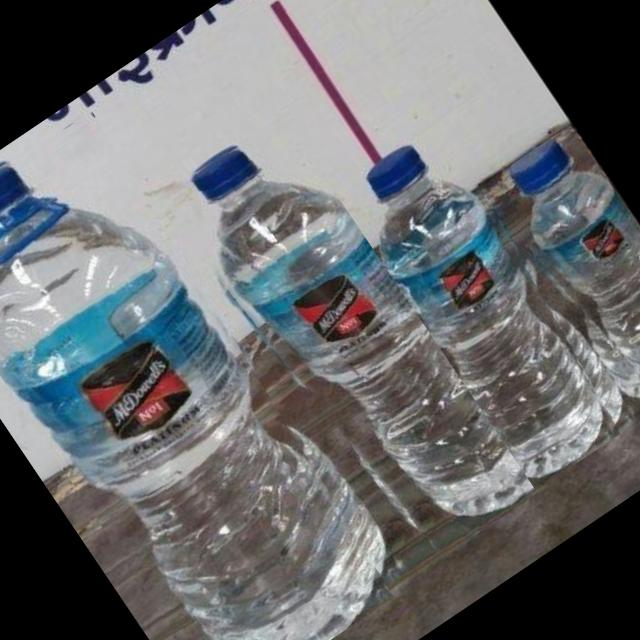plastic bottle: (0, 101, 412, 640), (154, 105, 547, 578), (333, 116, 640, 490), (479, 124, 640, 414)
